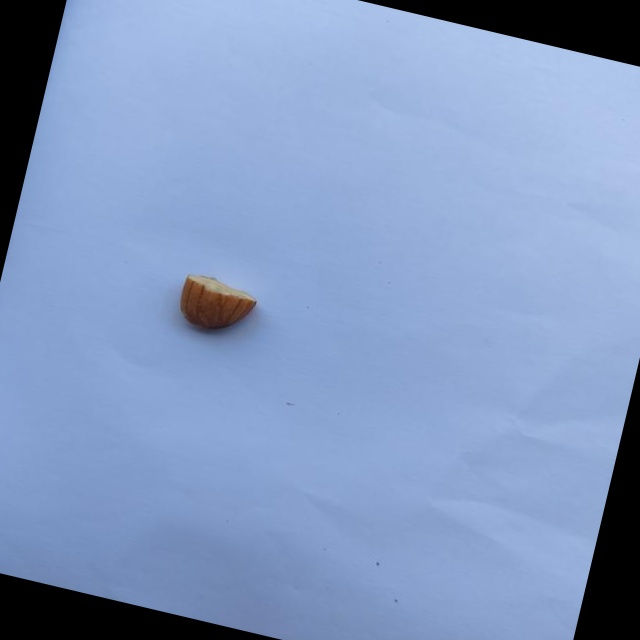grade4: (166, 266, 269, 348)
